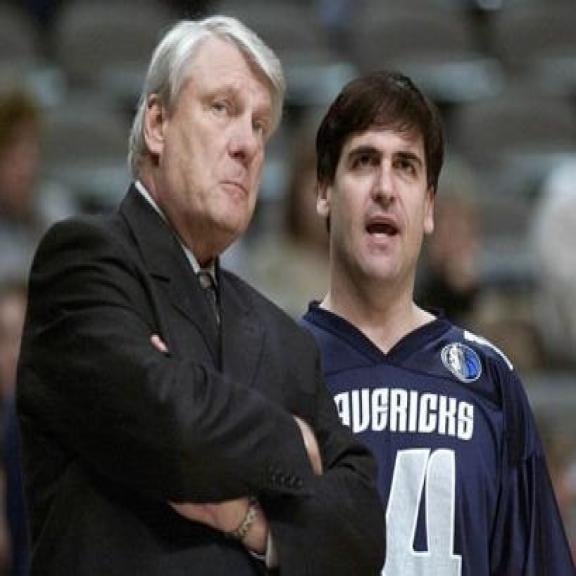face: (143, 35, 273, 246), (309, 101, 443, 290)
